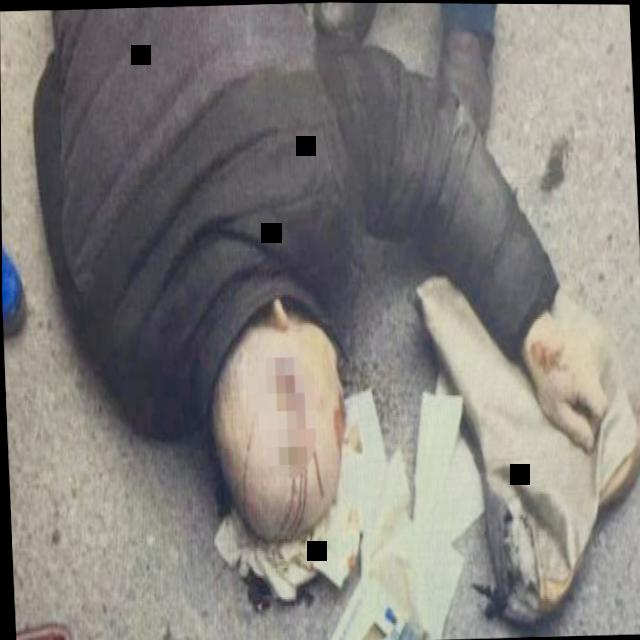Fall-Detected: (0, 0, 640, 599)
